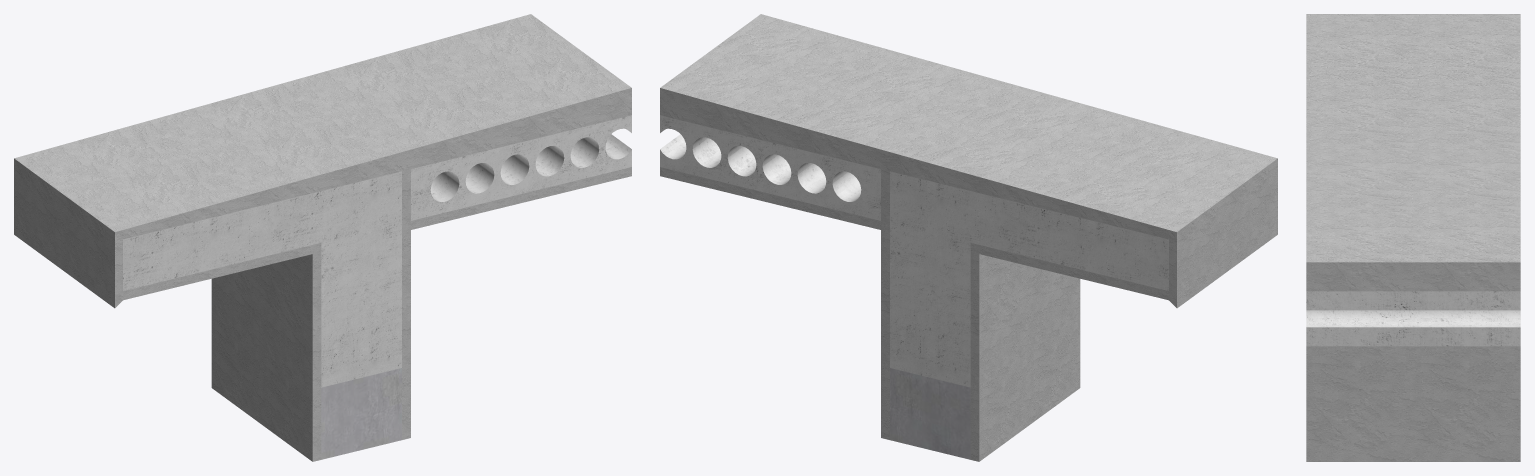
Rendered from roof-drainage.glb.
The picture shows the model from 3 angles, left to right: view 1: azimuth 30°, elevation 25°; view 2: azimuth 150°, elevation 25°; view 3: azimuth 270°, elevation 25°; orthographic projection. The views are drawn at different scales.
Parts seen in each view (by area): view 1: 01, 02, 03; view 2: 01, 02, 03; view 3: 01, 03.
Boxes of the visible parts, <box> form: 01: <box>14,14,631,461</box>; 02: <box>123,171,401,459</box>; 03: <box>411,115,631,220</box>; 01: <box>660,14,1277,461</box>; 02: <box>890,171,1168,459</box>; 03: <box>660,115,880,220</box>; 01: <box>1306,14,1520,461</box>; 03: <box>1306,291,1520,346</box>.
Bounding box in the file's own units: 2.96 × 1.62 × 1.
6 materials, 5 textured.
